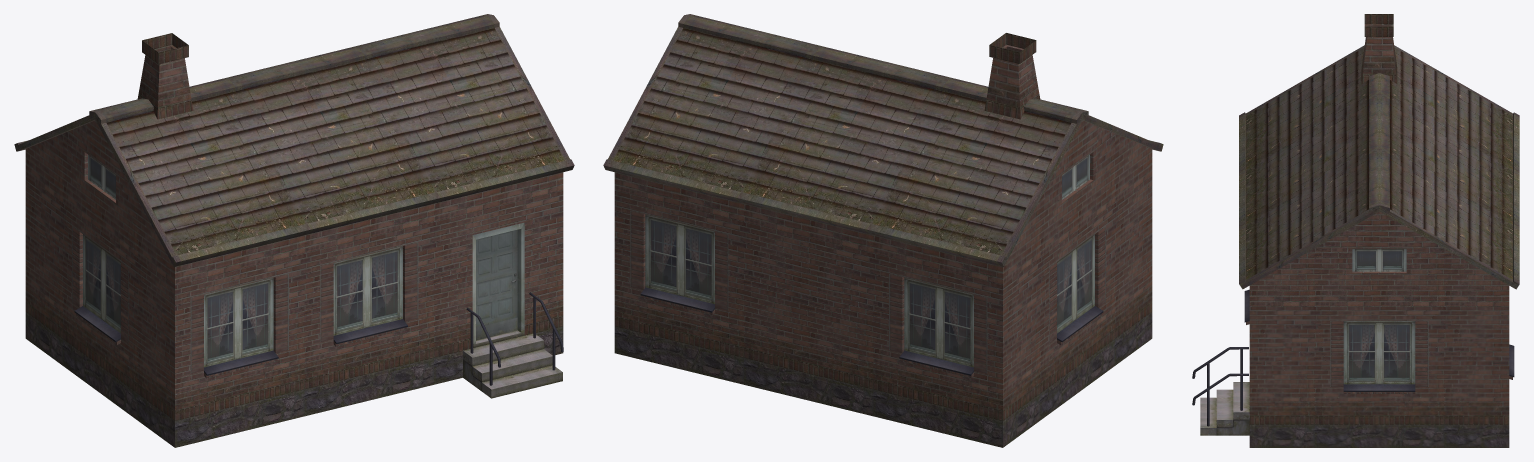
The model's file is double_room-building.glb.
The picture shows the model from 3 angles, left to right: view 1: azimuth 30°, elevation 25°; view 2: azimuth 150°, elevation 25°; view 3: azimuth 270°, elevation 25°; orthographic projection. The views are drawn at different scales.
Visible parts, largest first — view 1: Object_2; view 2: Object_2; view 3: Object_2.
Boxes of the visible parts, box(x1,y1,x2,y2) form: Object_2: box(14, 14, 574, 447); Object_2: box(603, 14, 1163, 447); Object_2: box(1192, 14, 1519, 447).
Size of the model in its own units: 308 by 247 by 252.
Materials: 1 (1 with a texture image).
